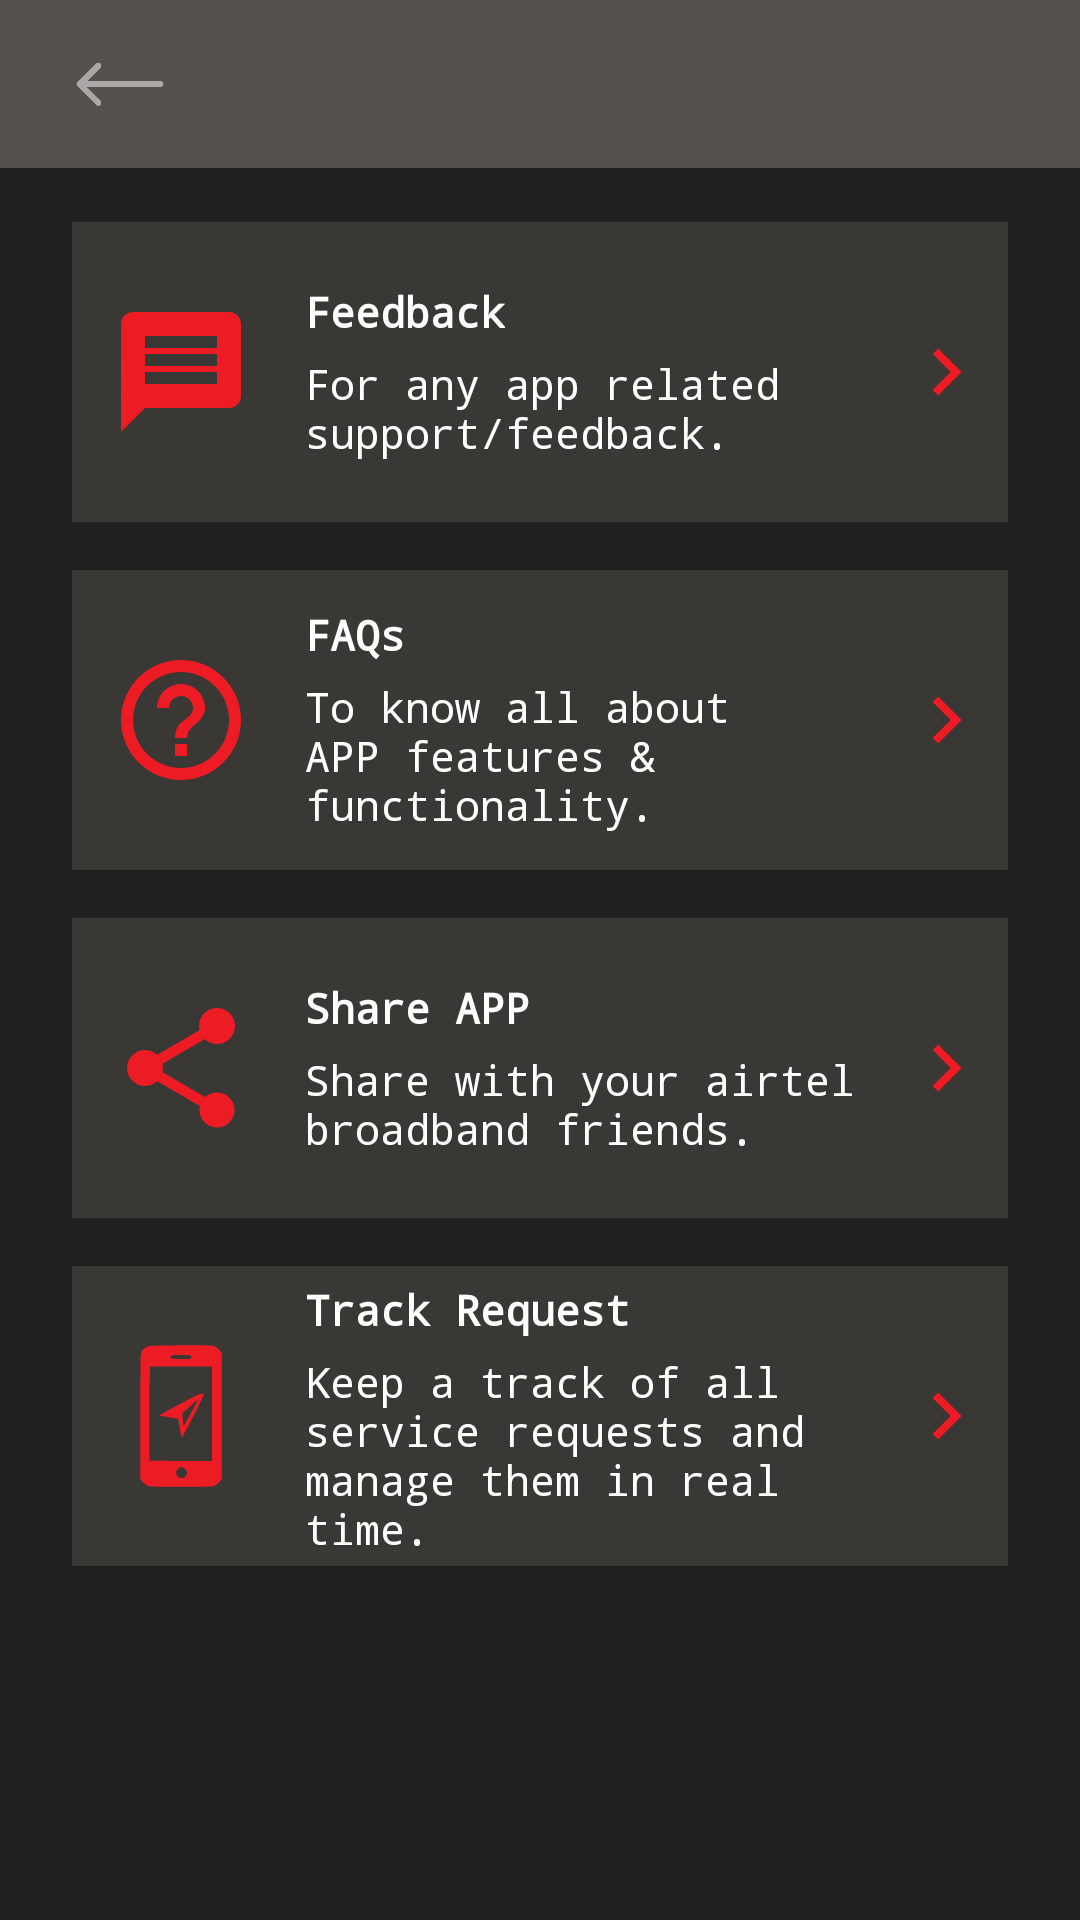

Screen size 1080×1920. Icon name, then its center in pixels as [x,y]:
help: [181,720]
navigate next: [947,372], [947,720], [947,1068], [947,1416]
track status service: [181,1416]
